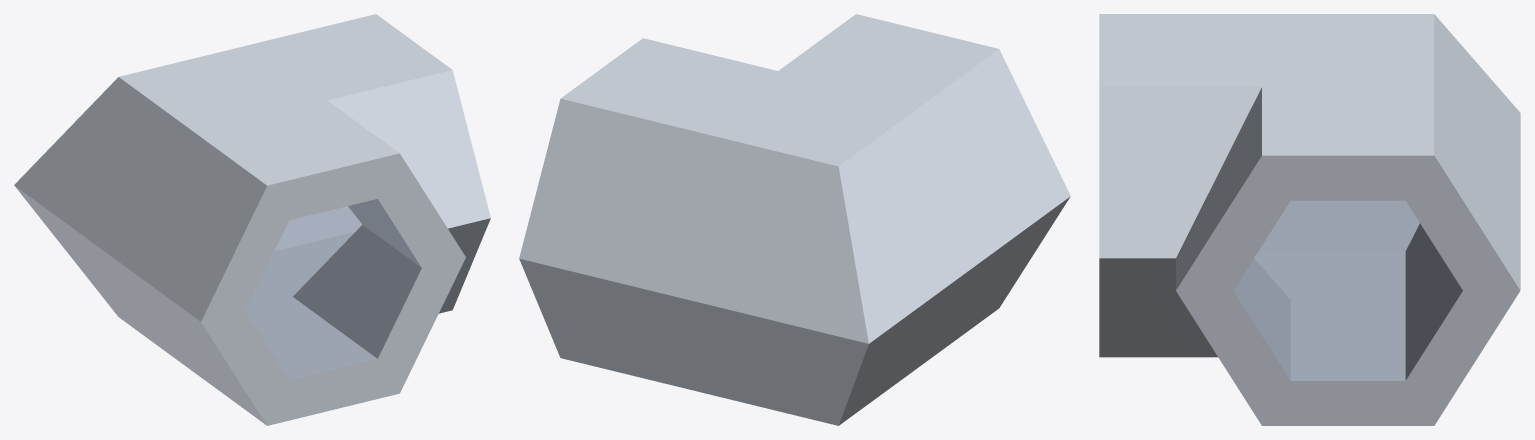
The model's file is pipe_corner.obj.
The picture shows the model from 3 angles, left to right: view 1: azimuth 30°, elevation 25°; view 2: azimuth 150°, elevation 25°; view 3: azimuth 270°, elevation 25°; orthographic projection. The views are drawn at different scales.
Parts seen in each view (by area): view 1: pipe_corner; view 2: pipe_corner; view 3: pipe_corner.
Part boxes in pixels (x1,y1,x2,y2): pipe_corner: [14, 14, 490, 425]; pipe_corner: [519, 14, 1070, 425]; pipe_corner: [1099, 14, 1520, 425].
Bounding box in the file's own units: 0.8464 × 0.6 × 0.8464.
